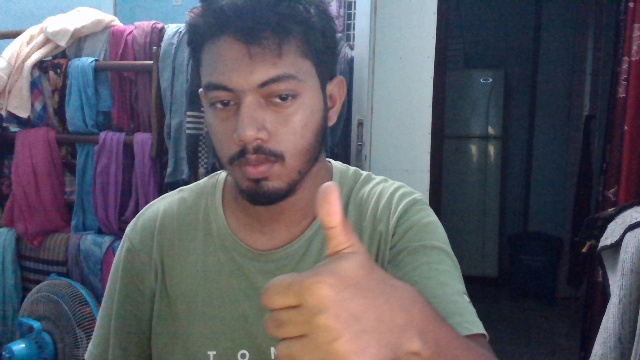yes: (255, 174, 426, 360)
